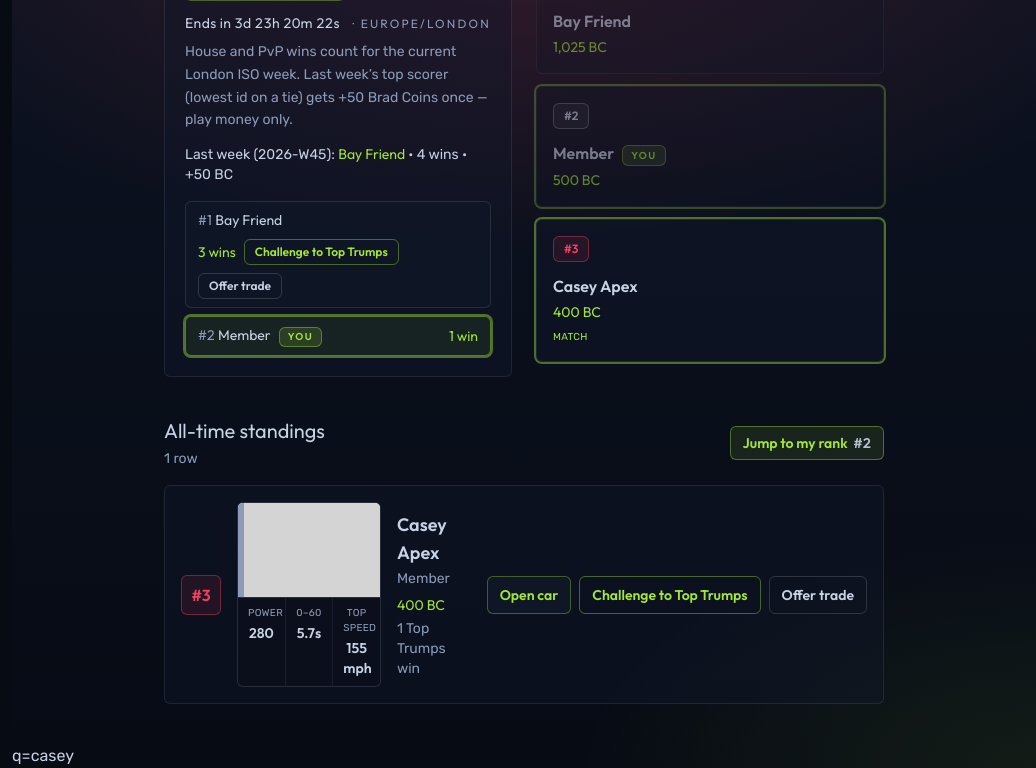
Test: LeaderboardPage Midnight Garage UI › shows Jump to my rank when Find filters hide the signed-in row
The width and height of the screenshot is (1036, 768).
(page scrolled)
Expected: the link with aria-label "Casey Apex, rank 3, open garage" is shown, [181,502,471,688]
Click the button with aria-label "Jump to my rank, currently #2": point(807, 443) [730,426,884,460]
(page scrolled)
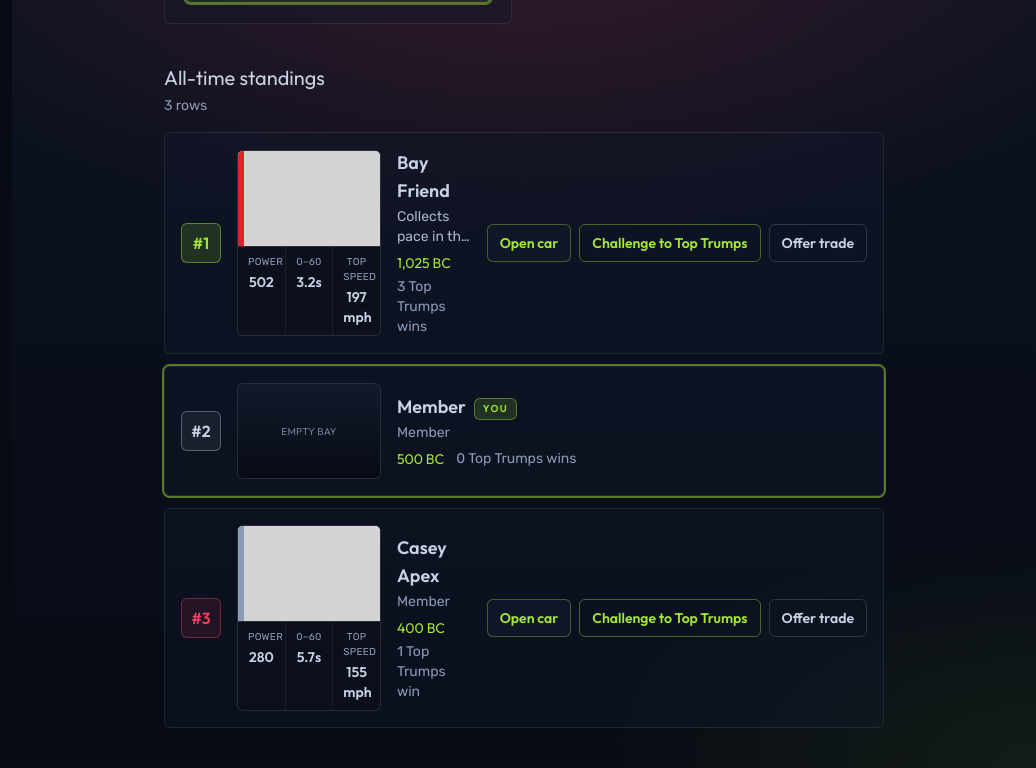
Now the text with test id "leaderboard-params" no longer shows "q="
Now the link with aria-label "Member (you), rank 2, open garage" is shown, box [181,383,576,480]
